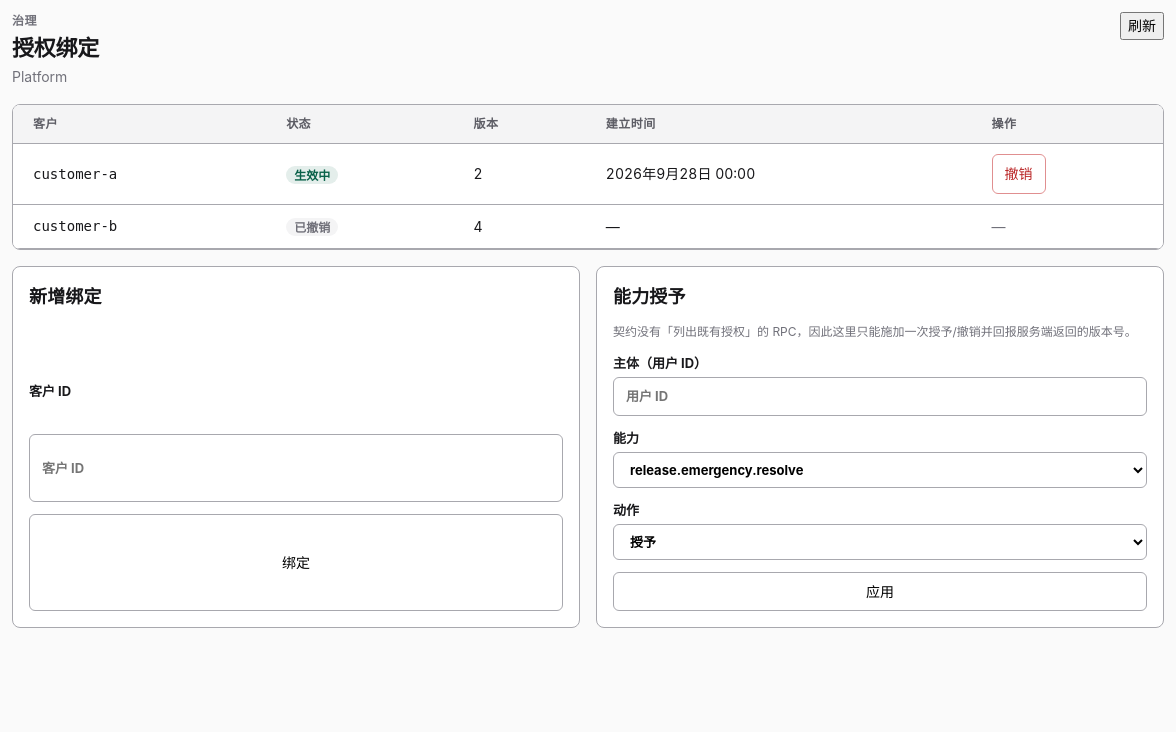
Test: BindingsPage › applies a capability grant and shows the returned versions
The image size is (1176, 732).
In the field named "subject": (880, 396) [613,377,1147,416], type "user-9"
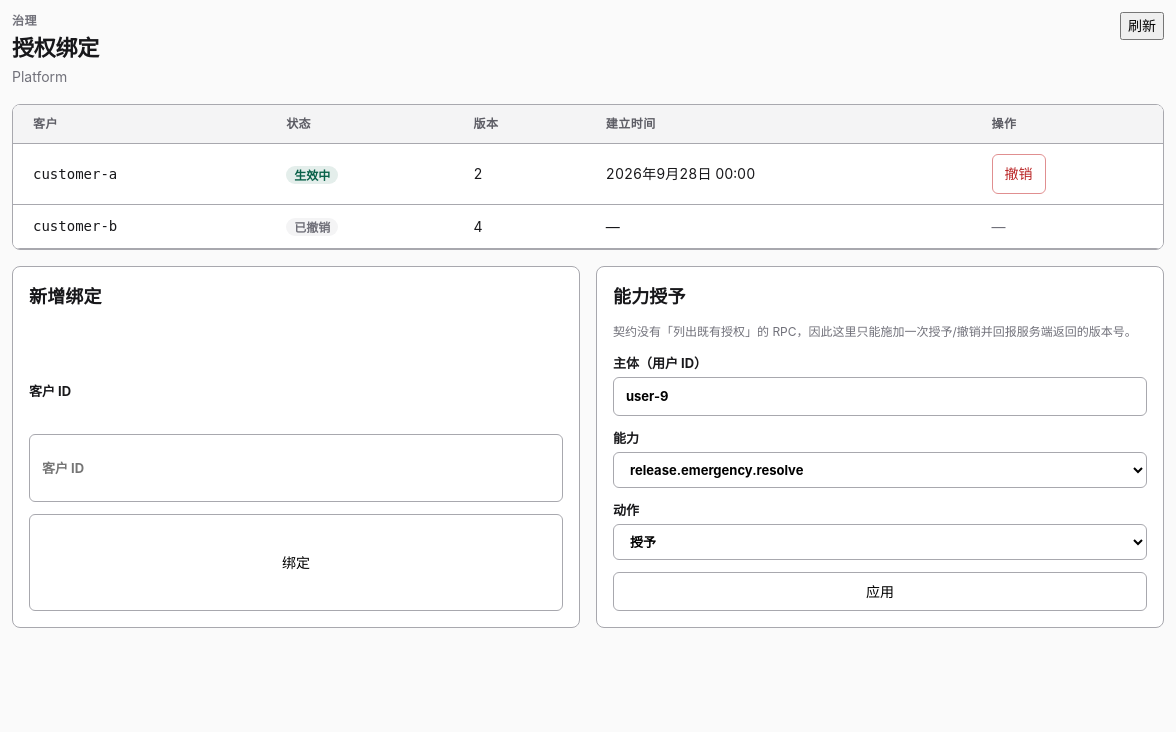
Select "release.emergency.resolve" in the dropdown named "action": (880, 470) [613,452,1147,488]
Select "授予" in the dropdown named "desiredState": (880, 542) [613,524,1147,560]
Submit the form with class "governance__panel" that starts with "能力授予", box [596,266,1164,628]
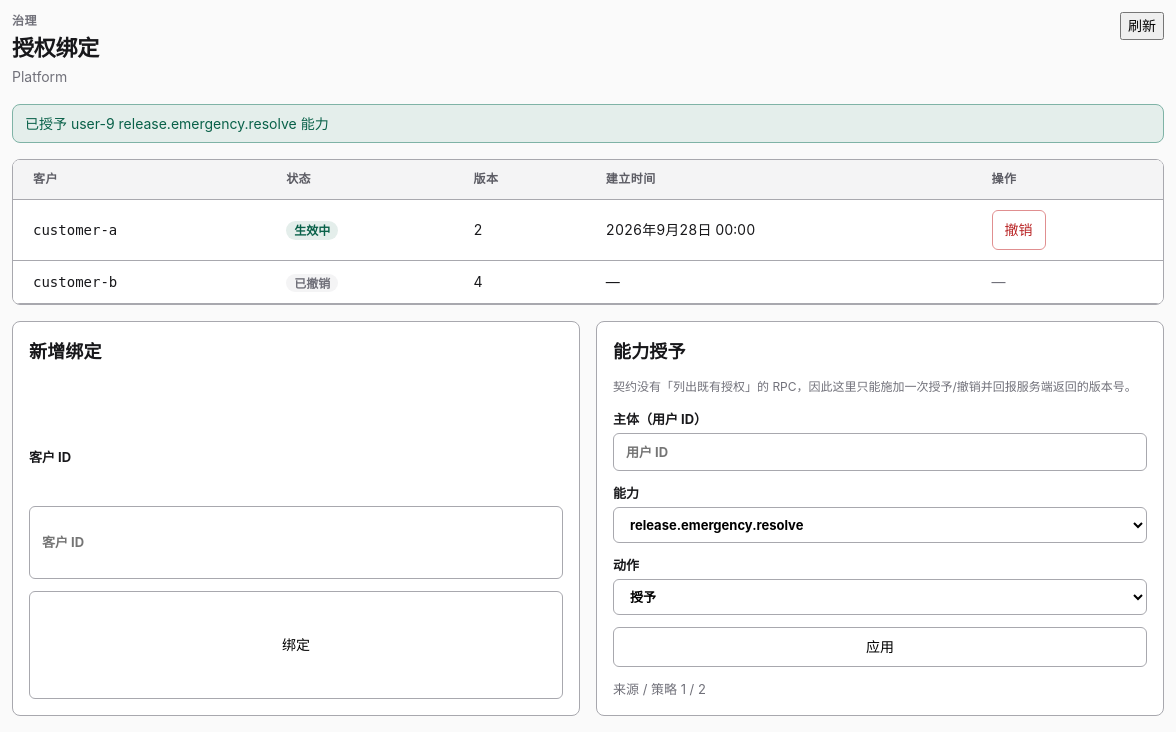
Check: the text with test id "grant-versions" shows "来源 / 策略 1", box [613,681,706,697]
